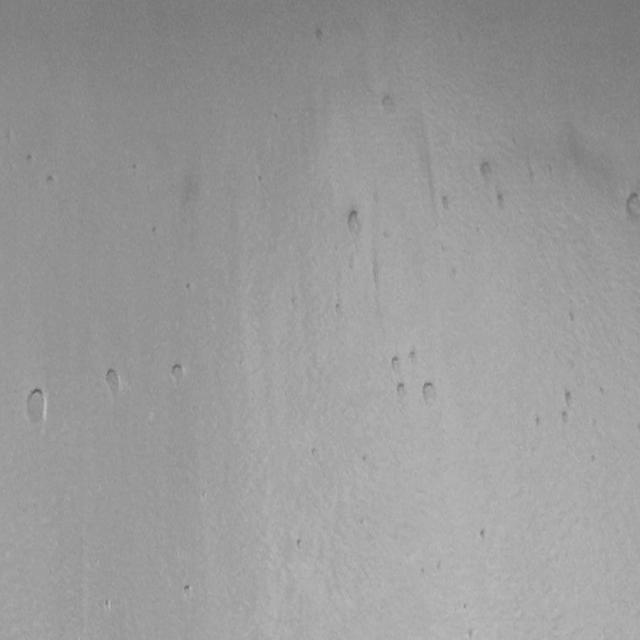pin holes: (23, 387, 51, 432), (473, 160, 499, 201), (102, 365, 126, 401), (418, 380, 440, 410), (344, 208, 364, 239), (378, 92, 402, 116), (622, 190, 639, 223), (168, 361, 188, 387), (437, 192, 457, 216), (496, 191, 511, 214), (44, 172, 60, 192), (312, 26, 328, 46), (395, 380, 410, 400), (558, 407, 573, 427), (476, 526, 492, 544), (391, 355, 404, 376), (564, 389, 578, 408), (294, 537, 308, 554), (408, 346, 421, 364), (128, 161, 142, 177), (182, 582, 195, 599), (184, 281, 197, 298), (24, 152, 37, 168), (308, 446, 322, 460), (534, 413, 546, 429), (334, 300, 345, 317), (101, 598, 113, 612), (150, 223, 160, 239), (568, 309, 576, 325), (590, 452, 598, 468), (468, 627, 476, 640), (436, 558, 442, 572), (462, 601, 469, 612), (362, 453, 369, 463)
